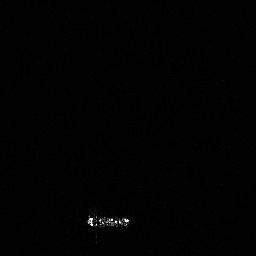ship: (83, 212, 132, 229)
